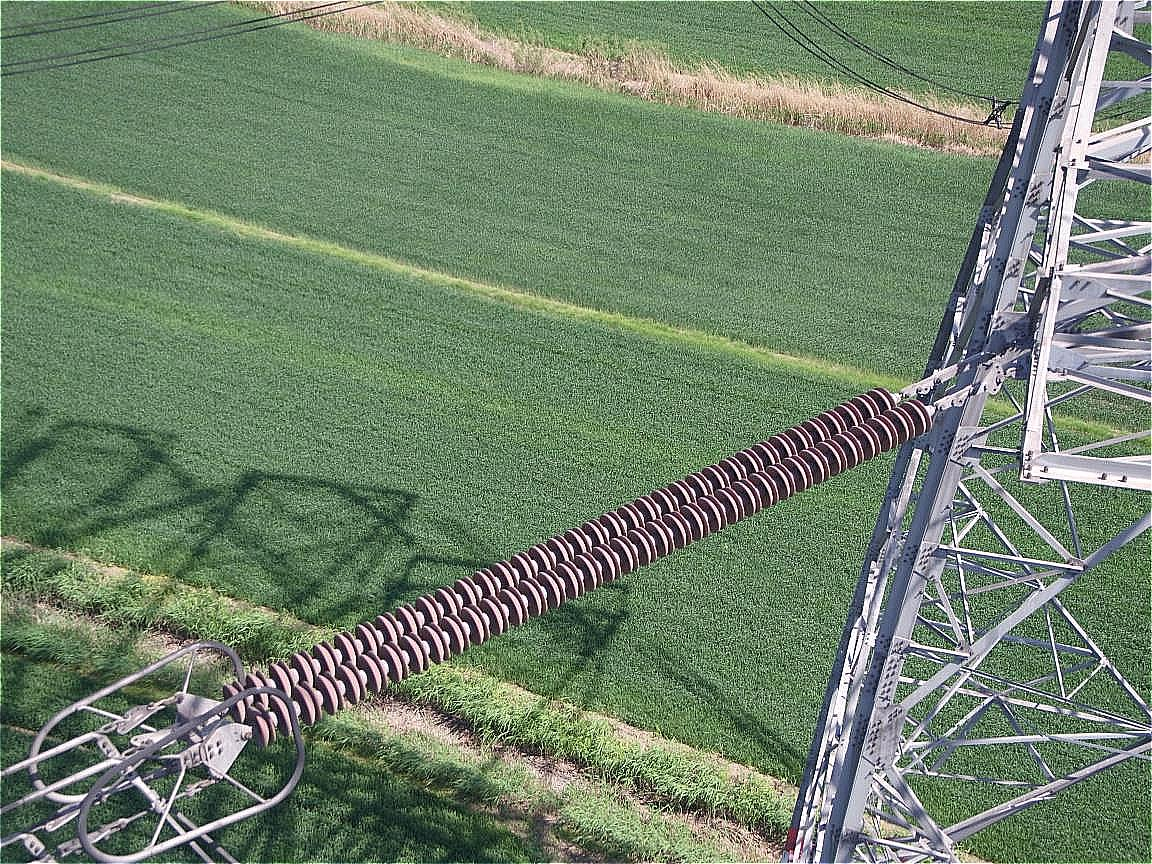insultor2: (197, 372, 963, 767)
